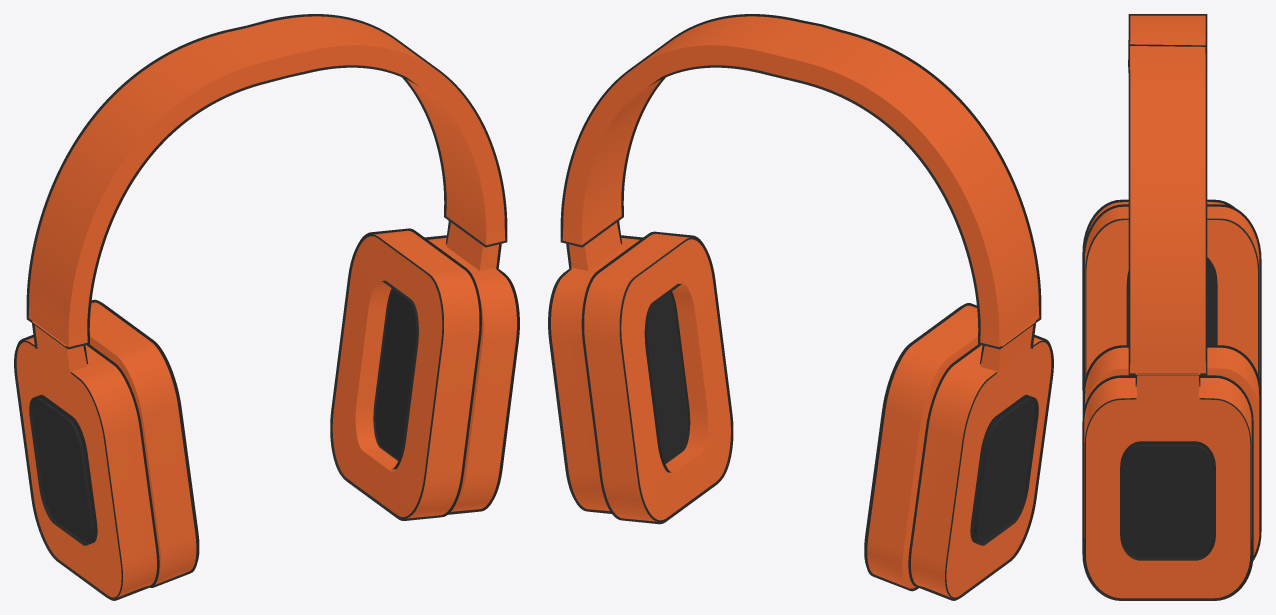
Rendered from Headphones.glb.
The picture shows the model from 3 angles, left to right: view 1: azimuth 30°, elevation 25°; view 2: azimuth 150°, elevation 25°; view 3: azimuth 270°, elevation 25°; orthographic projection. The views are drawn at different scales.
Visible parts, largest first — view 1: Couchs, Arc, Phone, Phone.002; view 2: Couchs, Arc, Phone, Phone.002; view 3: Arc, Phone, Couchs, Phone.002.
Part boxes in pixels (box(x1,y1,x2,y2)): Couchs: box(89, 228, 481, 587); Arc: box(26, 14, 507, 349); Phone: box(14, 221, 519, 600); Phone.002: box(29, 394, 97, 545); Couchs: box(581, 231, 978, 591); Arc: box(560, 14, 1041, 349); Phone: box(548, 221, 1053, 600); Phone.002: box(970, 394, 1038, 545); Arc: box(1128, 14, 1207, 375); Phone: box(1082, 199, 1253, 600); Couchs: box(1082, 204, 1261, 560); Phone.002: box(1120, 441, 1215, 560).
Size of the model in its own units: 1.91 by 2.07 by 0.7109.
